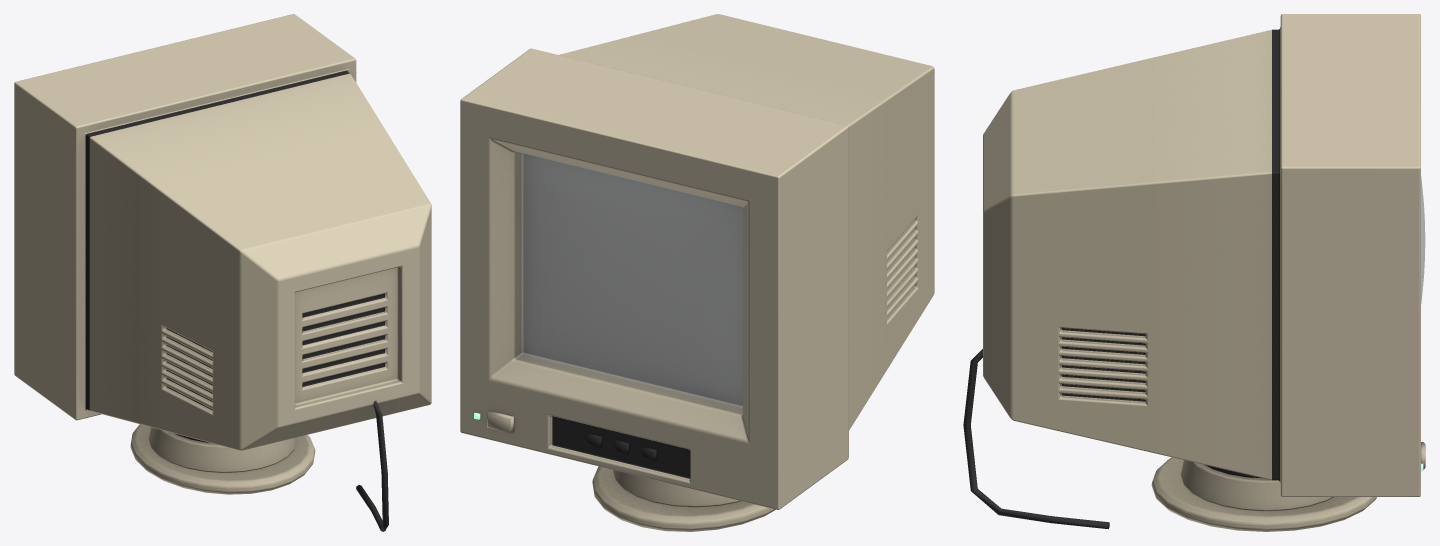
File: rental-terminal.glb
3 renders of one model, left to right at view 1: azimuth 30°, elevation 25°; view 2: azimuth 150°, elevation 25°; view 3: azimuth 270°, elevation 25°, orthographic. The views are drawn at different scales.
Parts seen in each view (by area): view 1: TerminalExport; view 2: TerminalExport, TerminalGlass; view 3: TerminalExport.
Part boxes in pixels (<box>): TerminalExport: <box>14,14,431,531</box>; TerminalExport: <box>460,14,934,531</box>; TerminalGlass: <box>515,152,742,413</box>; TerminalExport: <box>963,14,1425,531</box>.
Bounding box in the file's own units: 1.27 × 1.55 × 1.61.
Materials: 7 (6 with a texture image).
